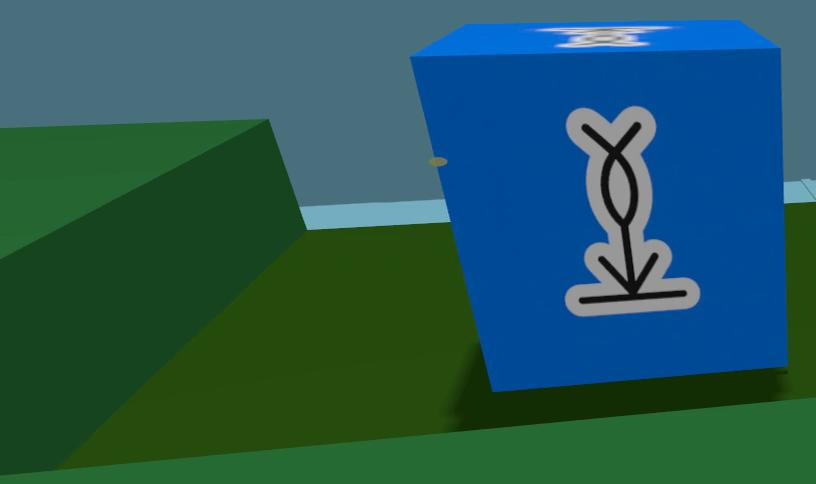KFS_REAL: (411, 20, 786, 391), (566, 107, 699, 316)
